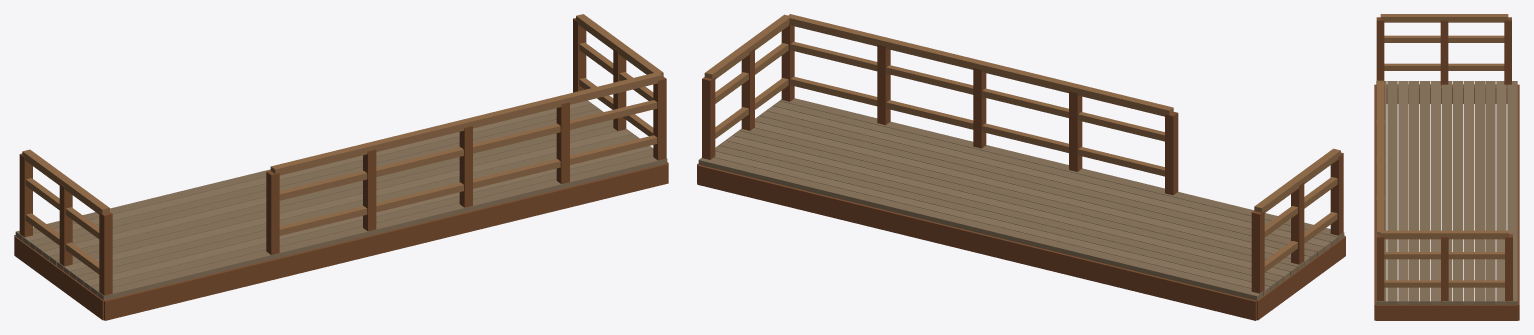
The model's file is lookout_deck.glb.
3 views of the same model, side by side, from view 1: azimuth 30°, elevation 25°; view 2: azimuth 150°, elevation 25°; view 3: azimuth 270°, elevation 25° (orthographic). The views are drawn at different scales.
Visible parts, largest first — view 1: KitLookoutDeckDetails; view 2: KitLookoutDeckDetails; view 3: KitLookoutDeckDetails.
Boxes of the visible parts, box(x1,y1,x2,y2) form: KitLookoutDeckDetails: box(14, 14, 668, 320); KitLookoutDeckDetails: box(697, 14, 1345, 320); KitLookoutDeckDetails: box(1374, 14, 1519, 320).
Bounding box in the file's own units: 7.05 × 1.29 × 1.96.
